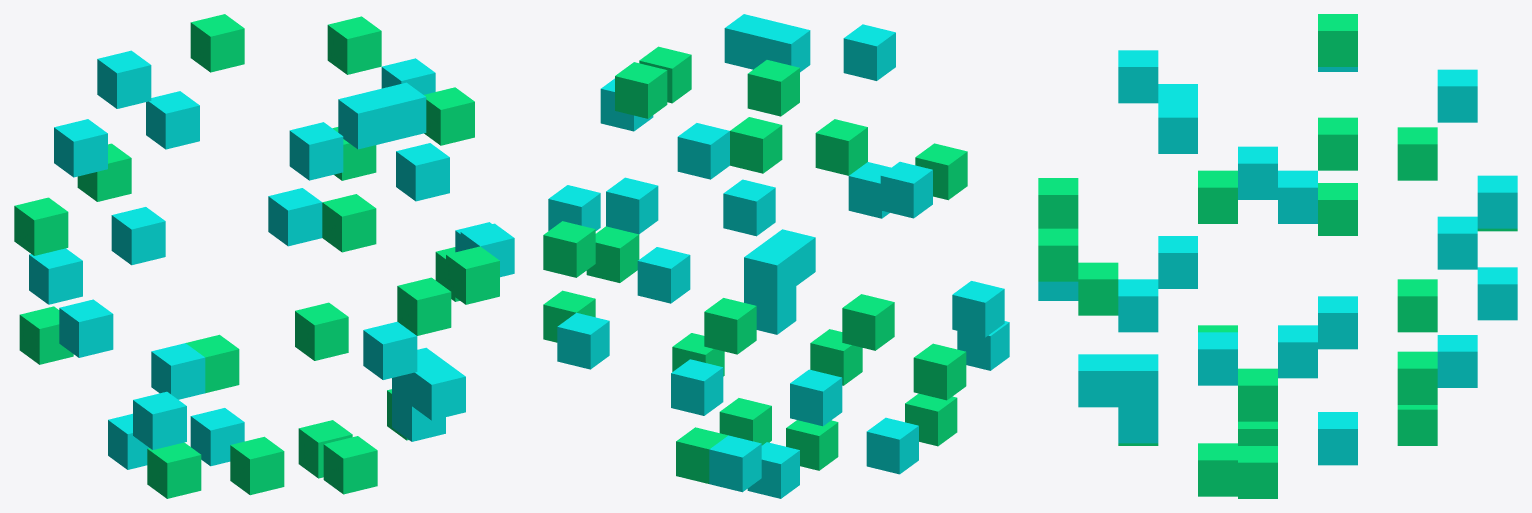
Rendered from luz-12a.obj.
The picture shows the model from 3 angles, left to right: view 1: azimuth 30°, elevation 25°; view 2: azimuth 150°, elevation 25°; view 3: azimuth 270°, elevation 25°; orthographic projection. The views are drawn at different scales.
Bounding box in the file's own units: 1.2 × 1.2 × 1.2.
1 material, 1 textured.
